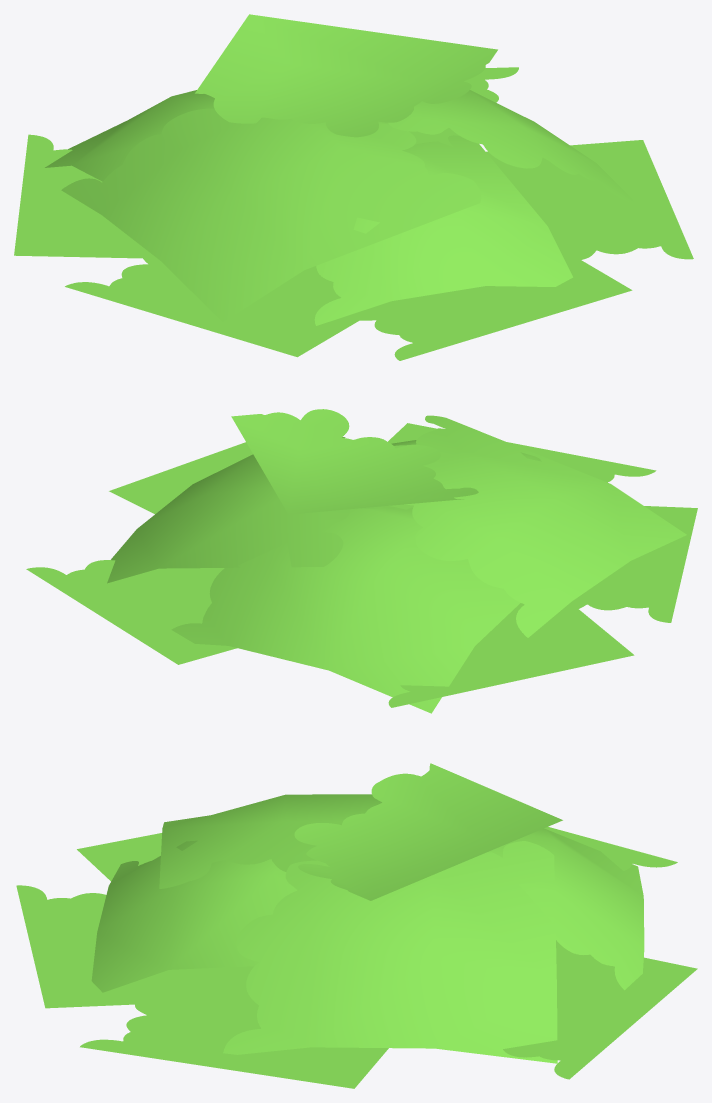
File: PileOfLeaves.fbx
3 renders of one model, top to bottom at view 1: azimuth 30°, elevation 25°; view 2: azimuth 150°, elevation 25°; view 3: azimuth 270°, elevation 25°, orthographic. The views are drawn at different scales.
Visible parts, largest first — view 1: Pile_Of_Leaves; view 2: Pile_Of_Leaves; view 3: Pile_Of_Leaves.
Boxes of the visible parts, left/top/right/bottom form: Pile_Of_Leaves: left=14, top=14, right=693, bottom=360; Pile_Of_Leaves: left=26, top=409, right=697, bottom=713; Pile_Of_Leaves: left=16, top=763, right=697, bottom=1088.
Size of the model in its own units: 112 by 24.58 by 110.
